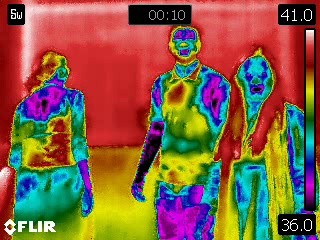human: (129, 24, 228, 240), (11, 48, 95, 218), (223, 44, 303, 215)
